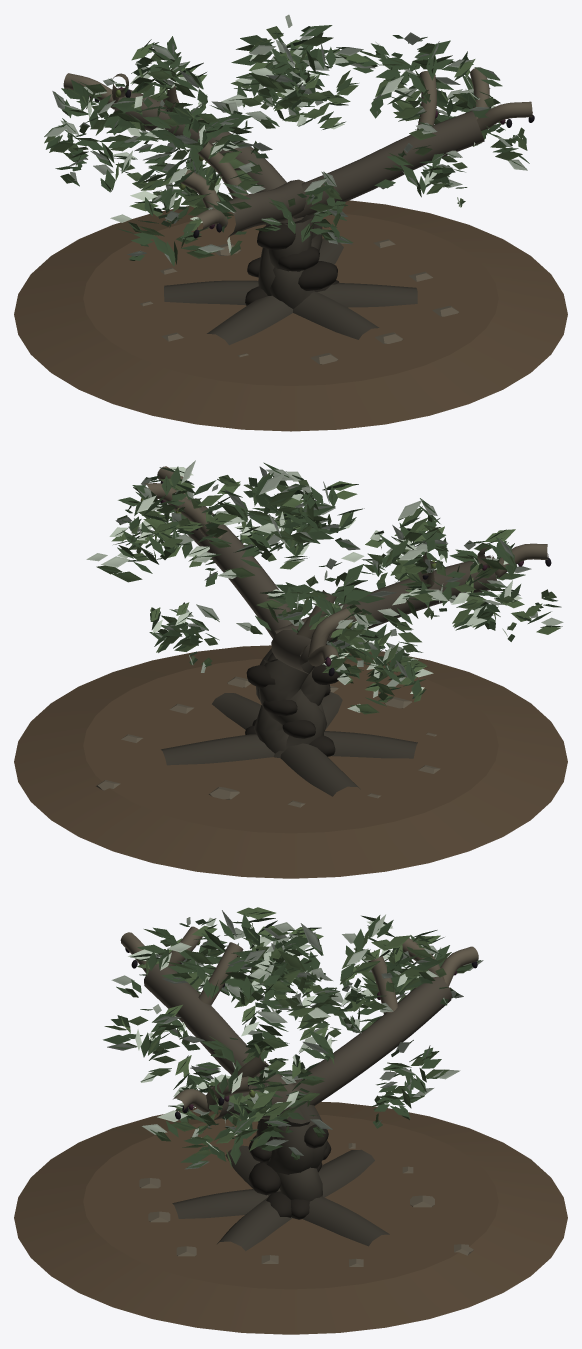
File: arbol-olivo.glb
3 views of the same model, one above another, from view 1: azimuth 30°, elevation 25°; view 2: azimuth 150°, elevation 25°; view 3: azimuth 270°, elevation 25° (orthographic).
Visible parts, largest first — view 1: OLEA_EUROPAEA_OLIVE_TREE, olive_foliage (×34); view 2: OLEA_EUROPAEA_OLIVE_TREE, olive_foliage (×32); view 3: OLEA_EUROPAEA_OLIVE_TREE, olive_foliage (×29).
Part boxes in pixels (x1,y1,x2,y2): OLEA_EUROPAEA_OLIVE_TREE: (14, 67, 567, 431); olive_foliage (×34): (44, 14, 529, 266); OLEA_EUROPAEA_OLIVE_TREE: (14, 466, 567, 878); olive_foliage (×32): (86, 460, 563, 714); OLEA_EUROPAEA_OLIVE_TREE: (14, 926, 567, 1334); olive_foliage (×29): (103, 907, 460, 1169).
Bounding box in the file's own units: 5.6 × 3.5 × 5.6.
